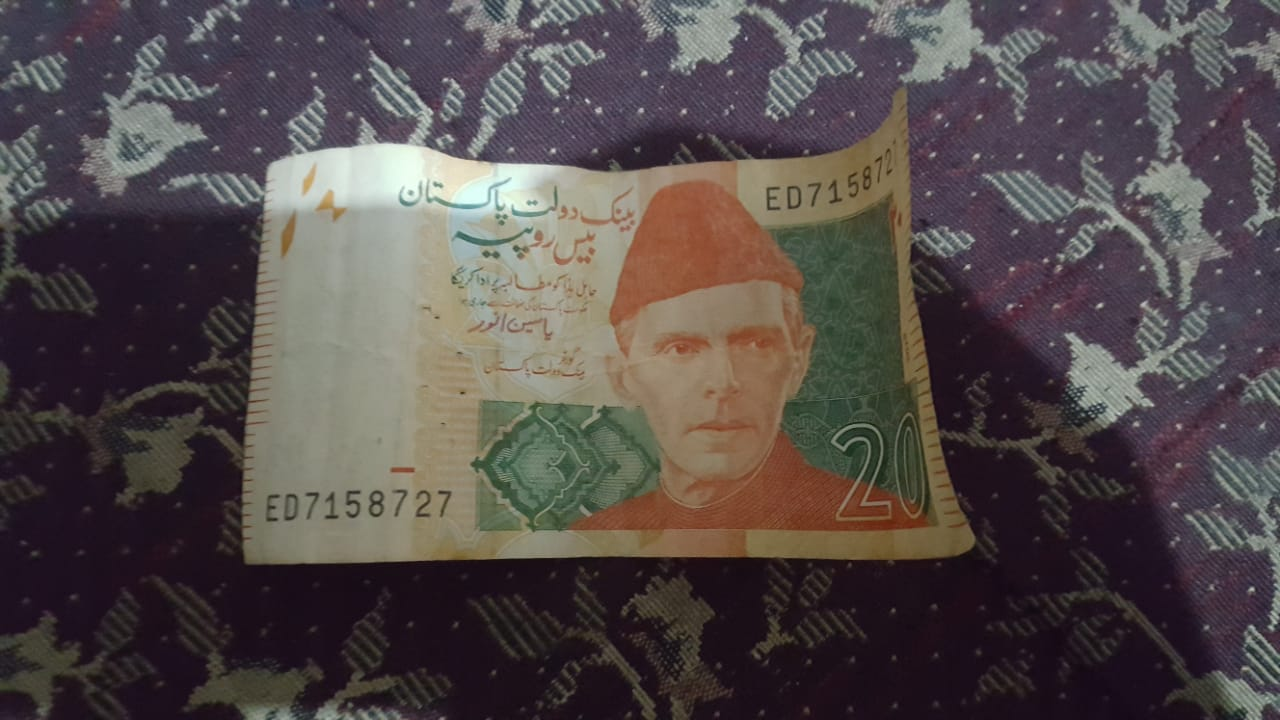20 rupee: (227, 107, 995, 596)
